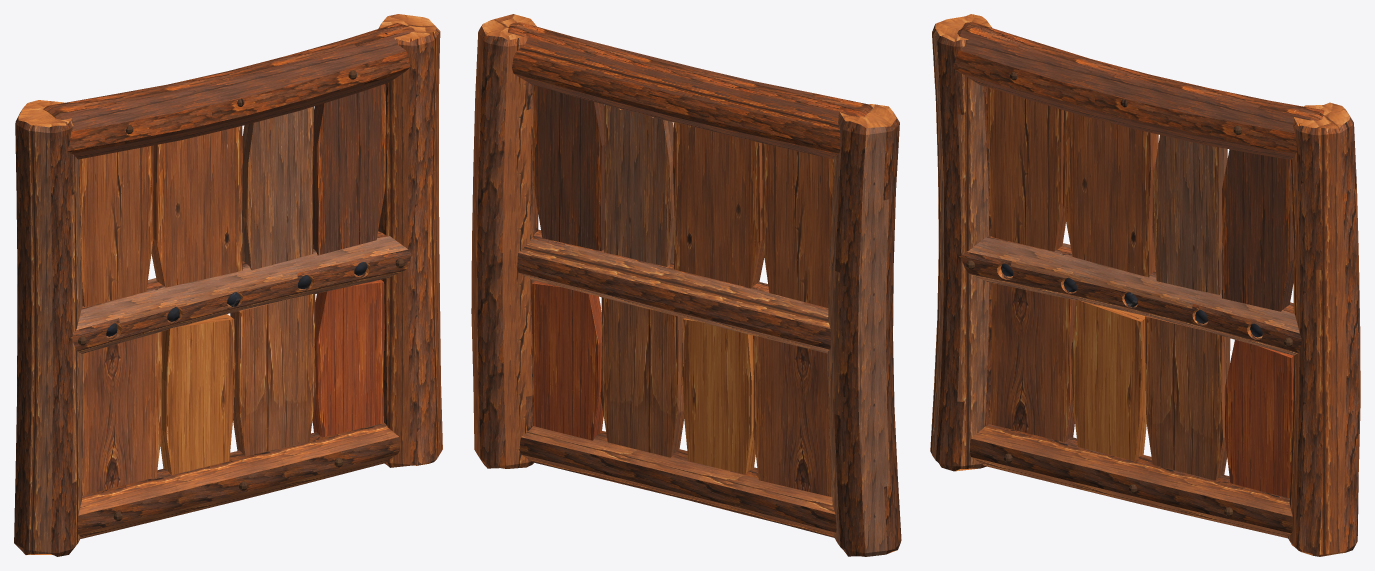
File: trap_dart_wall.glb
The picture shows the model from 3 angles, left to right: view 1: azimuth 30°, elevation 25°; view 2: azimuth 150°, elevation 25°; view 3: azimuth 330°, elevation 25°; orthographic projection.
Visible parts, largest first — view 1: model; view 2: model; view 3: model.
Part boxes in pixels (x1,y1,x2,y2): model: (14, 14, 442, 556); model: (471, 14, 901, 556); model: (930, 14, 1360, 556).
Size of the model in its own units: 1.98 by 1.97 by 0.3048.
19 materials, 19 textured.
